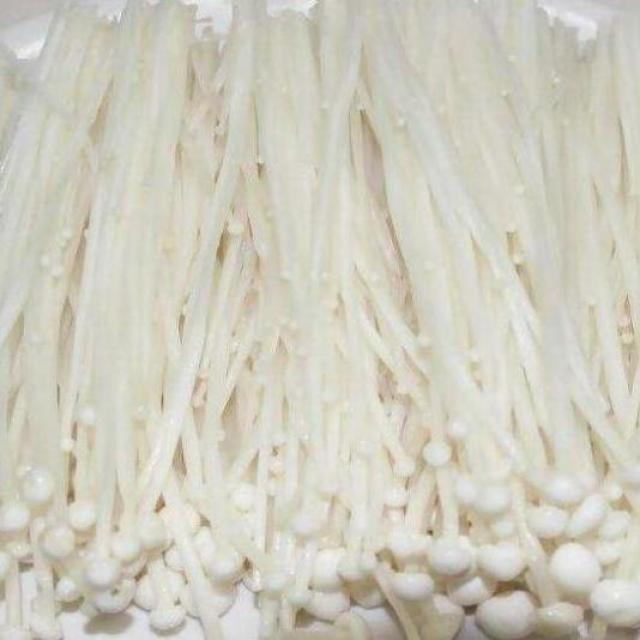Flammulina velutiper: (3, 3, 640, 640)
